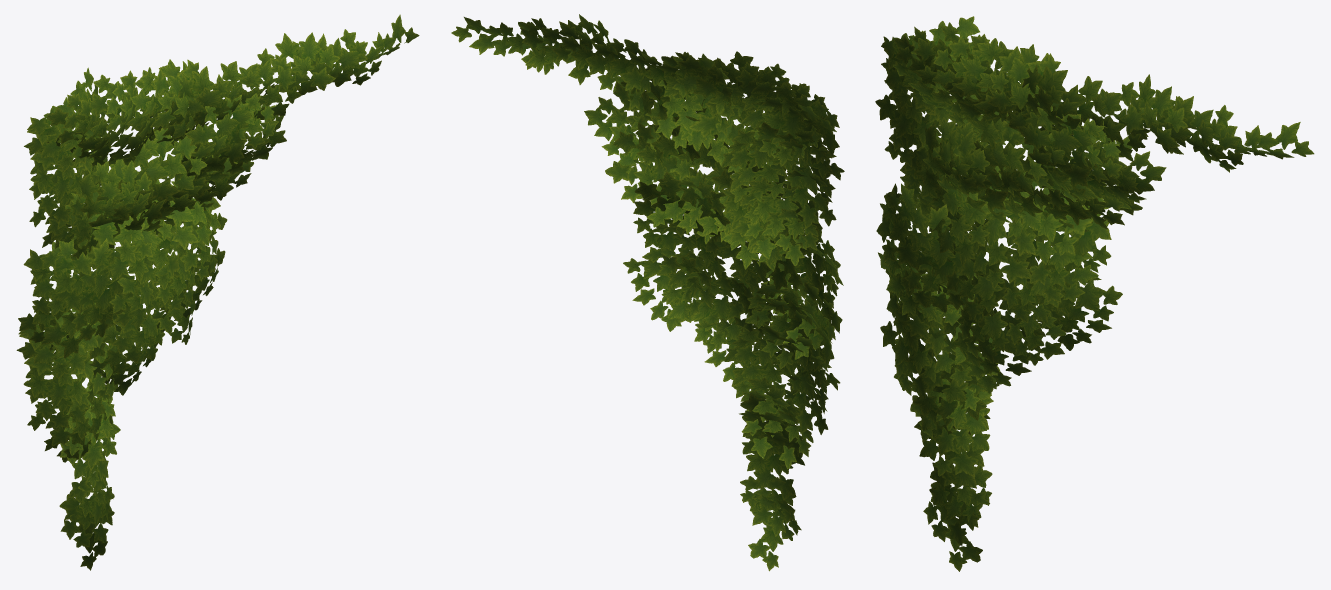
Rendered from SM_fwOF_IvyGroup_03.fbx.
3 views of the same model, side by side, from view 1: azimuth 30°, elevation 25°; view 2: azimuth 150°, elevation 25°; view 3: azimuth 330°, elevation 25° (orthographic). The views are drawn at different scales.
Visible parts, largest first — view 1: SM_fwOF_IvyGroup_03_LOD0; view 2: SM_fwOF_IvyGroup_03_LOD0; view 3: SM_fwOF_IvyGroup_03_LOD0.
Part boxes in pixels (bbox=[...]): SM_fwOF_IvyGroup_03_LOD0: bbox=[16, 14, 419, 570]; SM_fwOF_IvyGroup_03_LOD0: bbox=[451, 14, 844, 571]; SM_fwOF_IvyGroup_03_LOD0: bbox=[875, 16, 1314, 571].
Size of what is drawn, in the model's own units: 3.38 by 4.11 by 0.5849.
